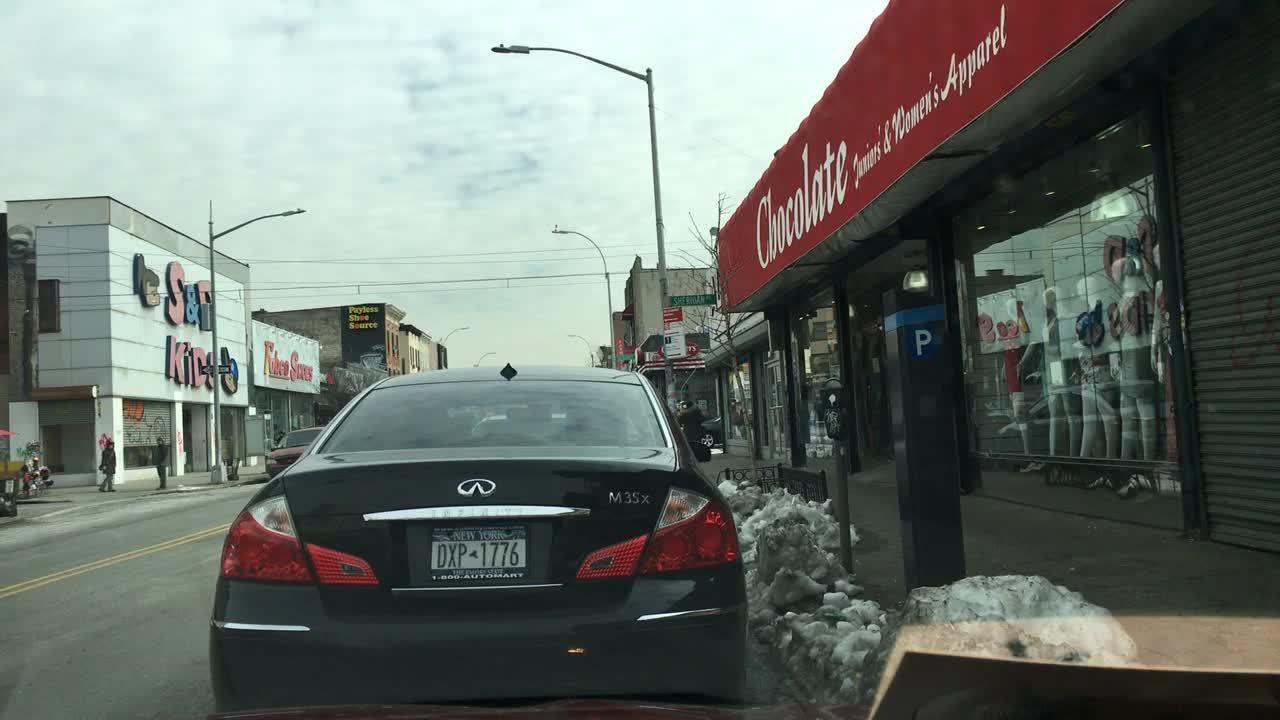Infiniti: (452, 467, 501, 502)
